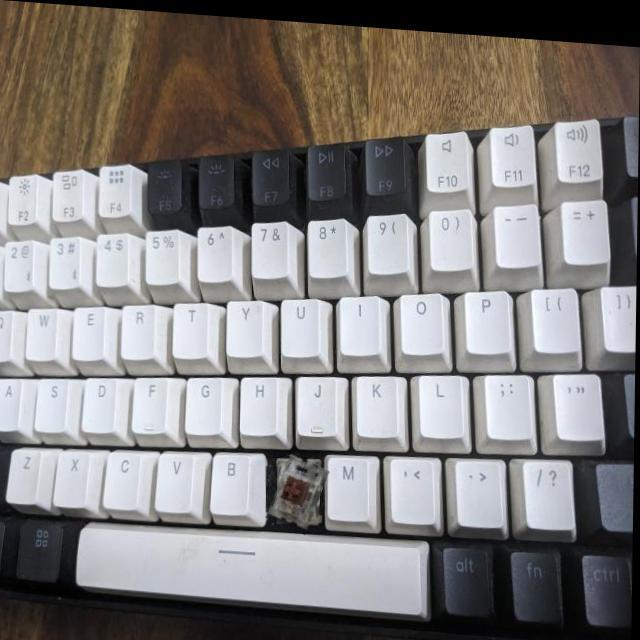key-switch: (273, 451, 327, 529)
